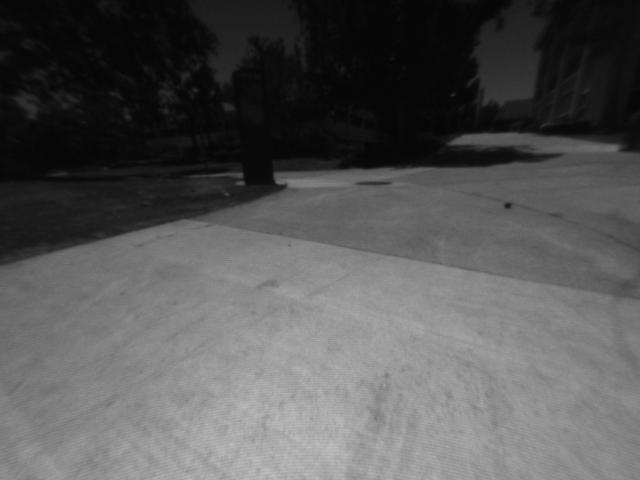dogtoy: (498, 197, 520, 216)
